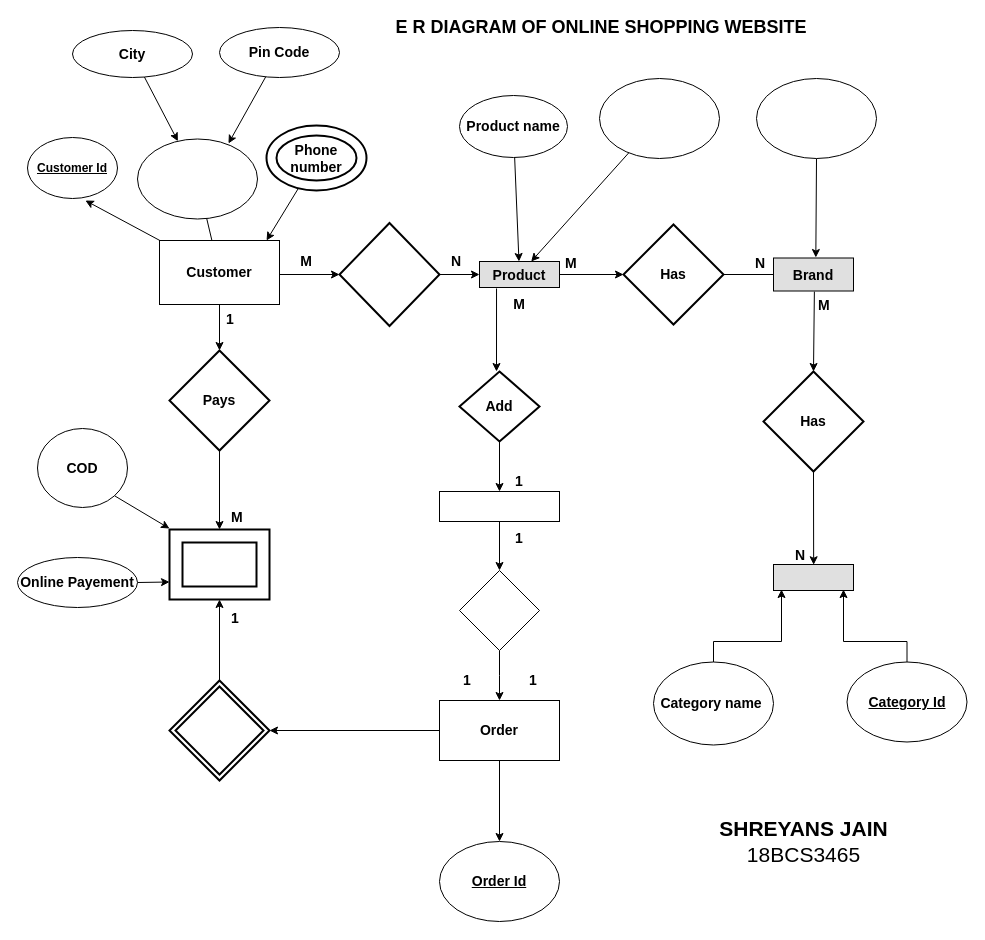
Some shapes in this 985 by 940 pixel diagram are drawn without their labels. The centre of each missing label's shape, as x and y in pixels:
"Addrress" goes at point (197, 178).
"Cart" goes at point (499, 506).
"Category" goes at point (813, 577).
"Made from" goes at point (219, 730).
"Name and Symbol" goes at point (816, 118).
"Payement" goes at point (219, 564).
"Place" goes at point (499, 610).
"Product id" goes at point (659, 118).
"Select" goes at point (389, 274).
